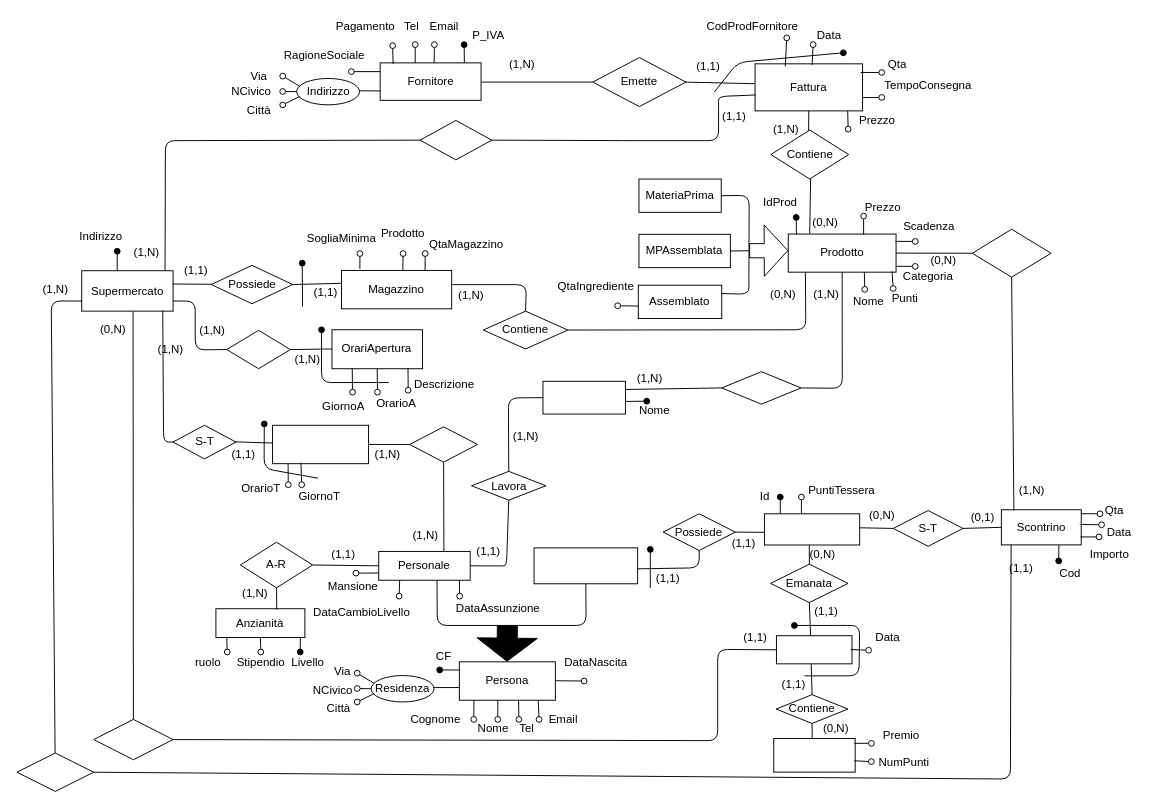
Some shapes in this 1155 by 808 pixel diagram are drawn without their labels. Here are the shapes that lost their labels. From the top down, the centre of each, then its label:
At pixel 455 140: "S-F".
At pixel 1011 252: "Venduti".
At pixel 258 349: "S-O".
At pixel 583 397: "Reparto".
At pixel 761 387: "Situato".
At pixel 320 444: "TurnoLavoro".
At pixel 443 444: "R-T".
At pixel 811 529: "Tessera".
At pixel 585 565: "ClienteFidelizzato".
At pixel 813 649: "Ricevuta".
At pixel 133 739: "S-R".
At pixel 814 755: "Catalogo".
At pixel 55 771: "S-S".
